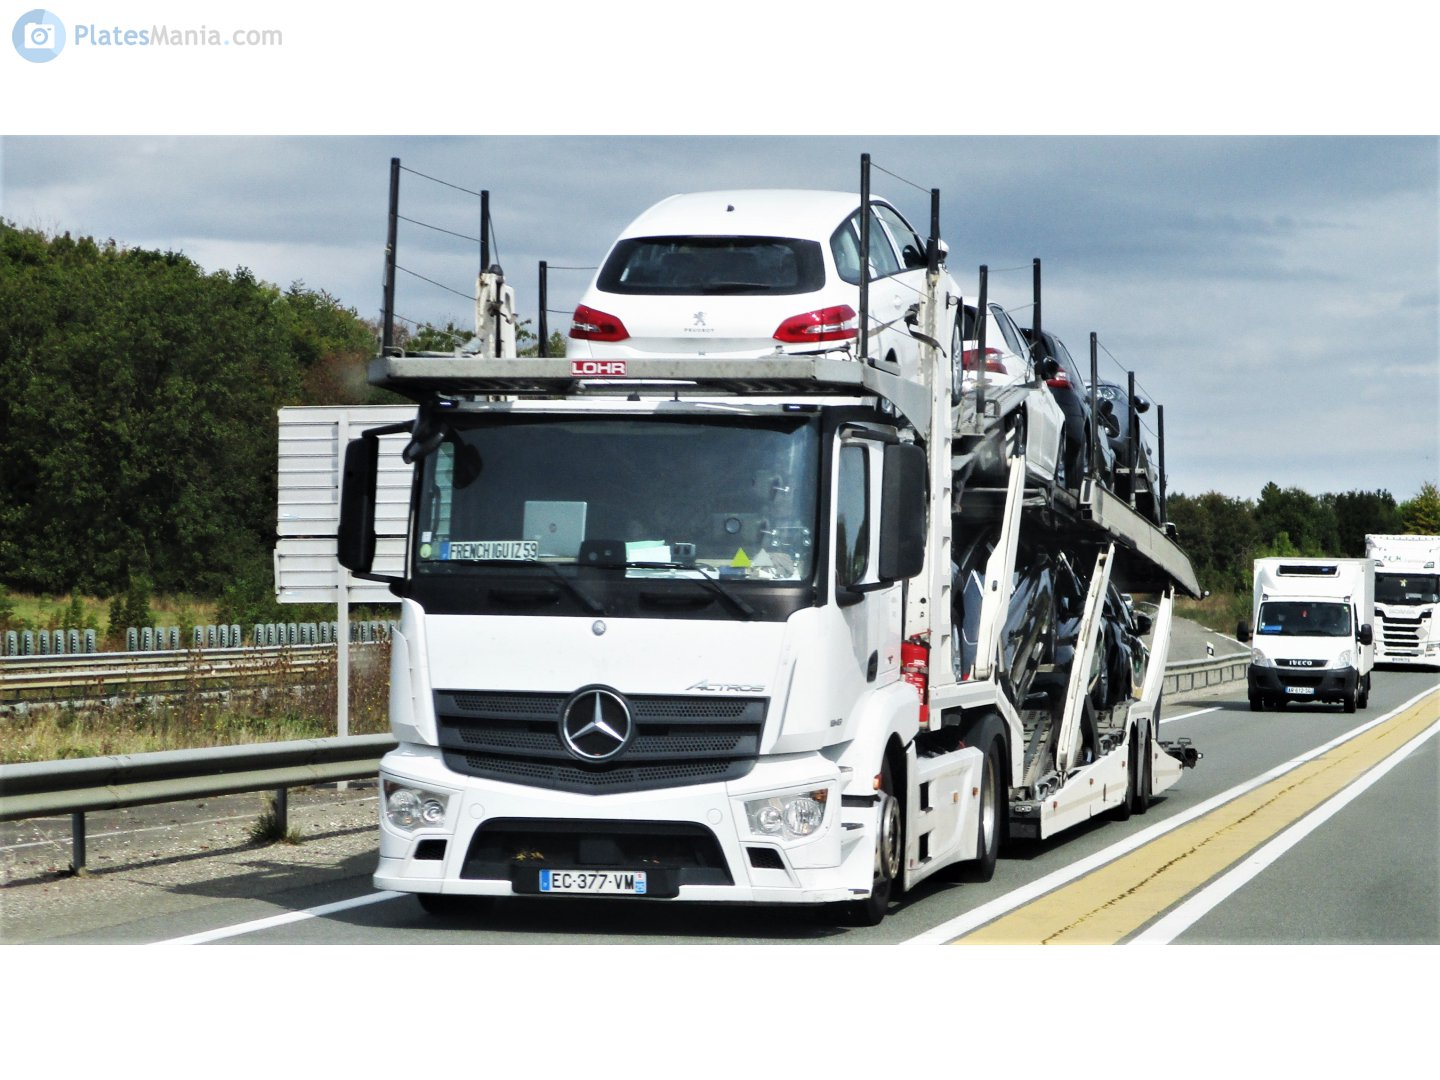licence plate: (534, 861, 652, 900)
